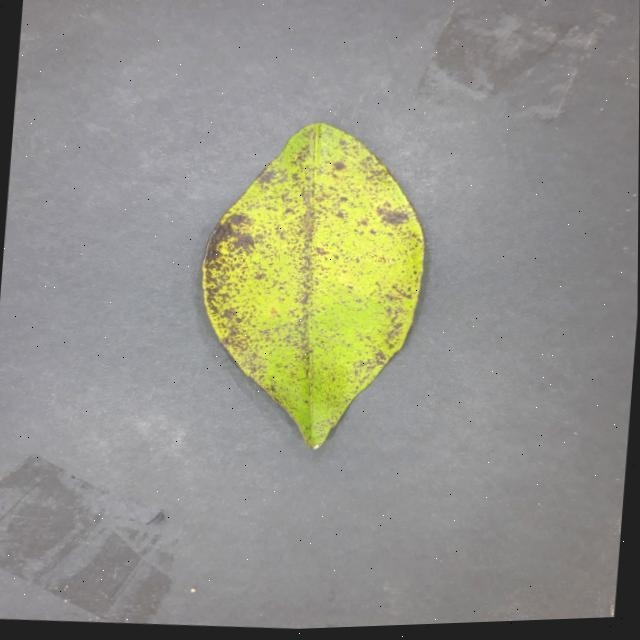greasy_spot: (201, 123, 422, 448)
